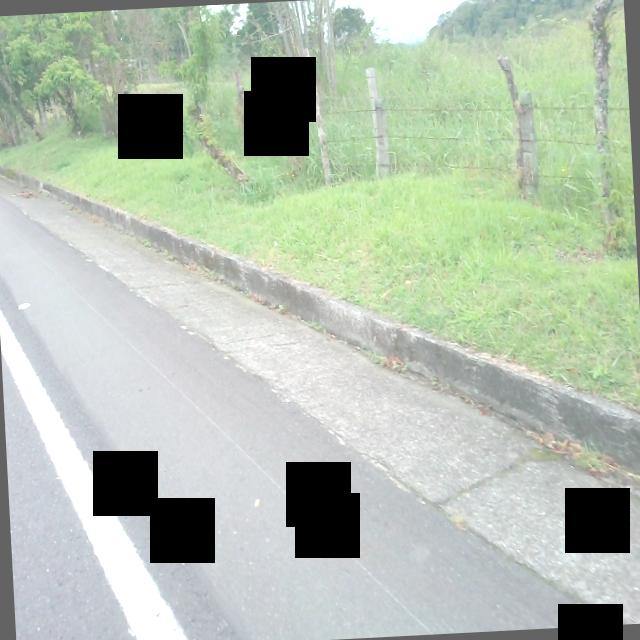DITCH: (0, 132, 640, 640), (0, 133, 640, 640)
